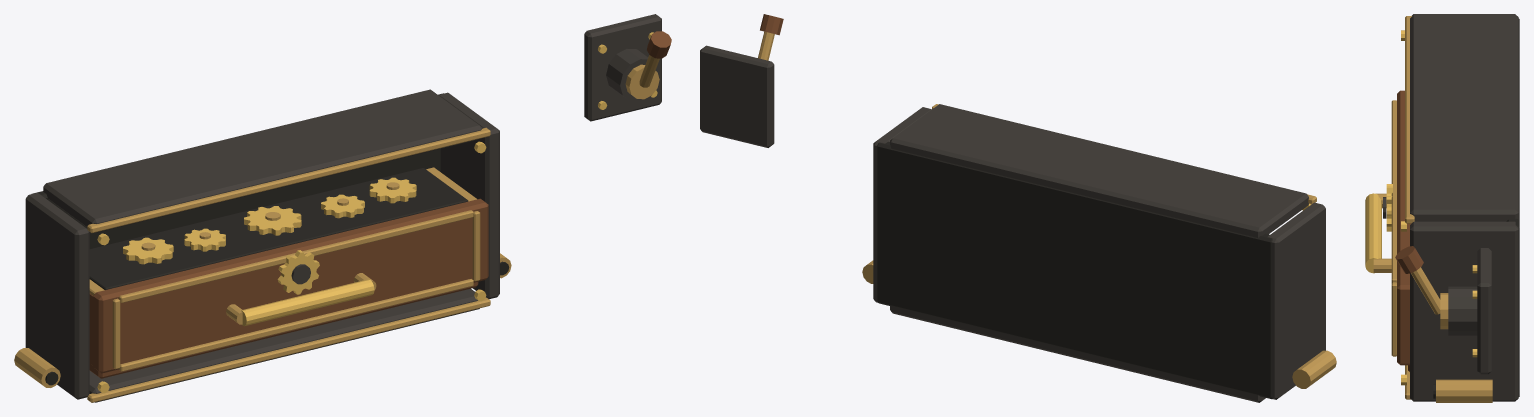
File: service-compartment.glb
3 views of the same model, side by side, from view 1: azimuth 30°, elevation 25°; view 2: azimuth 150°, elevation 25°; view 3: azimuth 270°, elevation 25° (orthographic). The views are drawn at different scales.
Visible parts, largest first — view 1: drawer-front, sleeve-rail.001, drawer-dark-backing, sleeve-side, sleeve-rail, sleeve-back, sleeve-side.001, primer-backing, brass-keeper.001, brass-keeper, drawer-front-trim, drawer-front-trim.001 (+13 smaller); view 2: sleeve-back, sleeve-rail.001, sleeve-side, primer-backing, sleeve-rail, sleeve-side.001, steam-outlet; view 3: sleeve-rail.001, sleeve-side.001, drawer-front, primer-backing, primer-mount, steam-outlet.001, drawer-handle, brass-keeper.001, drawer-front-trim.001, sleeve-back, primer-stem, primer-grip (+5 smaller).
Boxes of the visible parts, x1,y1,x2,y2 form: drawer-front: (93, 198, 488, 373); sleeve-rail.001: (43, 89, 482, 232); drawer-dark-backing: (89, 168, 468, 289); sleeve-side: (25, 192, 89, 399); sleeve-rail: (89, 288, 479, 402); sleeve-back: (32, 93, 443, 248); sleeve-side.001: (439, 92, 499, 299); primer-backing: (584, 14, 661, 121); brass-keeper.001: (87, 127, 490, 232); brass-keeper: (87, 297, 490, 402); drawer-front-trim: (119, 279, 473, 371); drawer-front-trim.001: (119, 210, 473, 302); sleeve-back: (877, 141, 1272, 399); sleeve-rail.001: (890, 104, 1308, 237); sleeve-side: (1267, 202, 1325, 399); primer-backing: (700, 45, 774, 147); sleeve-rail: (890, 305, 1265, 402); sleeve-side.001: (873, 107, 931, 302); steam-outlet: (1292, 350, 1336, 388); sleeve-rail.001: (1410, 15, 1518, 221); sleeve-side.001: (1410, 221, 1518, 401); drawer-front: (1397, 90, 1410, 365); primer-backing: (1477, 248, 1491, 374); primer-mount: (1448, 286, 1477, 335); steam-outlet.001: (1436, 379, 1492, 402); drawer-handle: (1365, 193, 1381, 273); brass-keeper.001: (1405, 16, 1414, 223); drawer-front-trim.001: (1391, 101, 1396, 283); sleeve-back: (1506, 17, 1519, 396); primer-stem: (1411, 267, 1440, 314); primer-grip: (1395, 246, 1423, 273).
Size of the model in its own units: 1.91 by 0.6645 by 0.3835.
